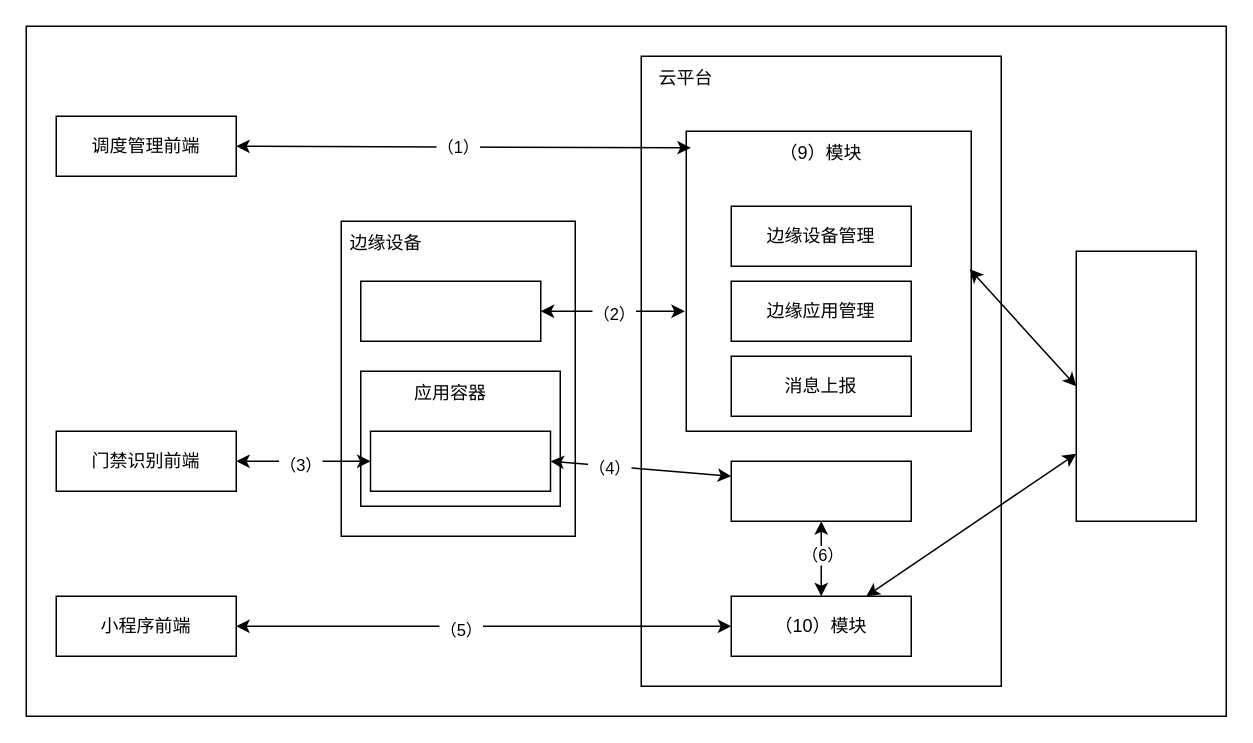
This 1253x743 diagram has some shape labels left out. The centre of each missing label's shape, as x and y in pixels:
"数据库" belongs at (1135,385).
"智能边缘工具" belongs at (450,310).
"（7）模块" belongs at (459,460).
"（8）模块" belongs at (820,490).
